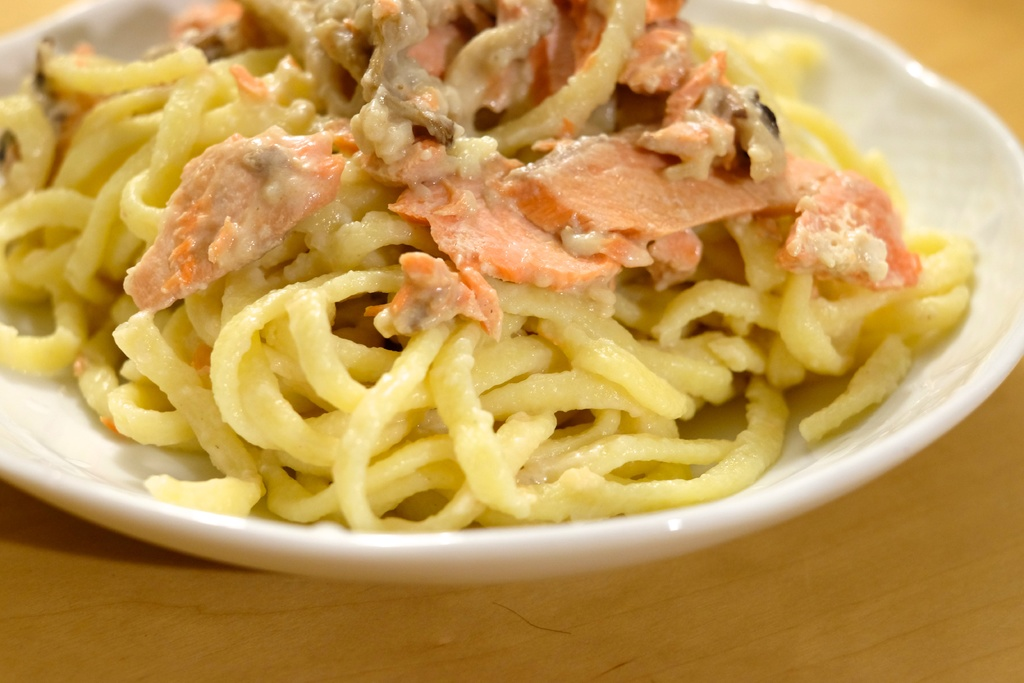pasta: (23, 0, 959, 545)
